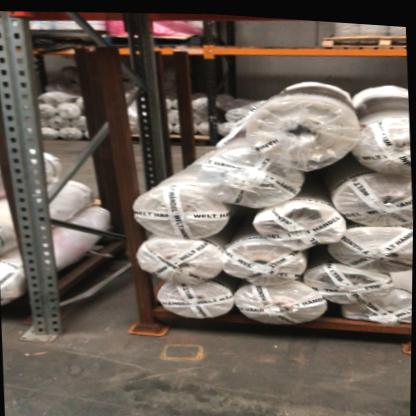vertical_damage: (22, 293, 70, 345)
